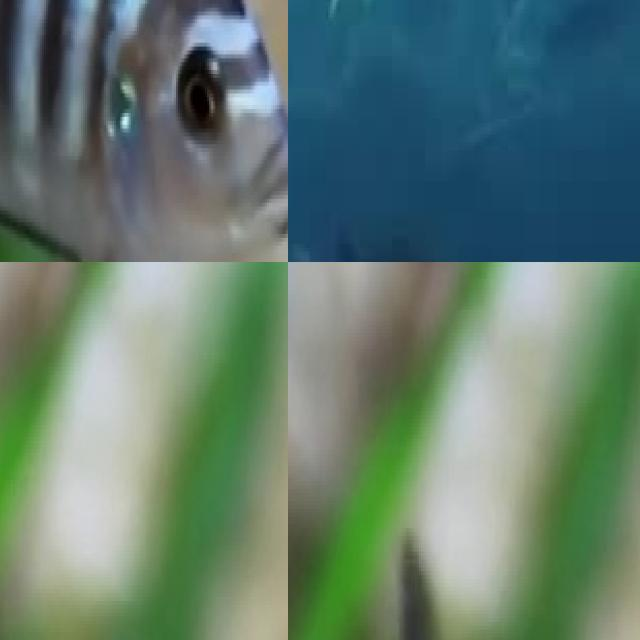fish: (0, 0, 288, 262), (288, 520, 640, 640)
